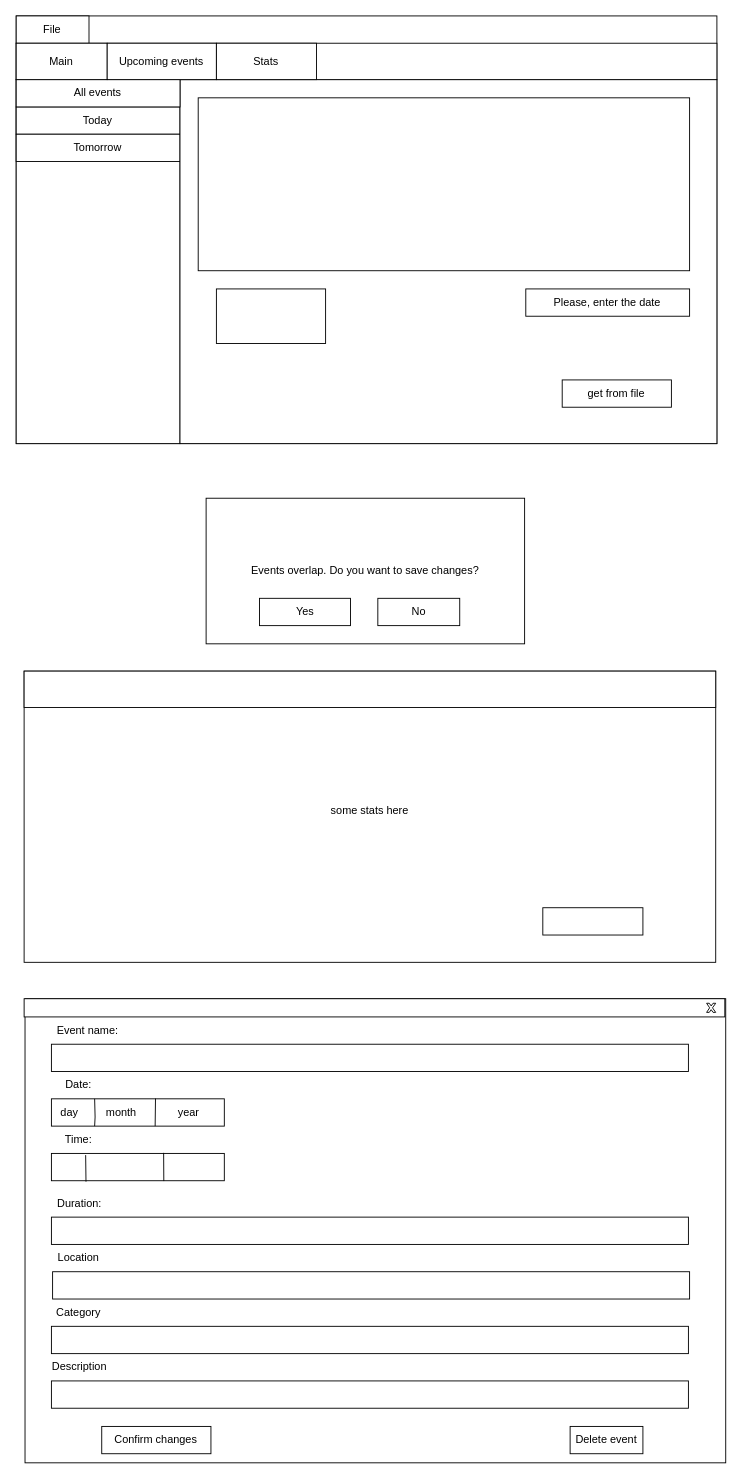
Some shapes in this 742 by 1479 pixel diagram are drawn without their labels. Here are the shapes that lost their labels. From the top down, the centre of each, then its label:
At point (443, 184): "list of events in the form of a table/list".
At point (270, 316): "Choose by category: (Combobox)".
At point (592, 921): "save event".
At point (374, 1007): "Edit event".
At point (137, 1167): "AM".
